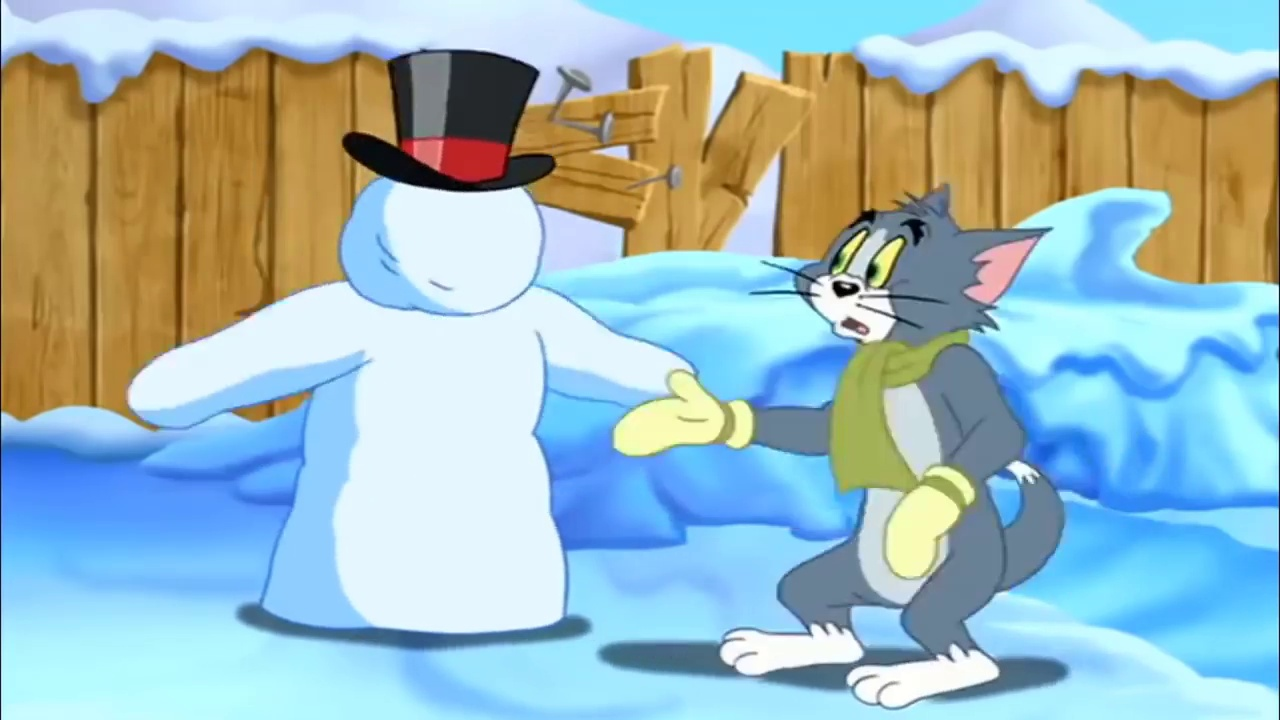face: (805, 207, 932, 345)
